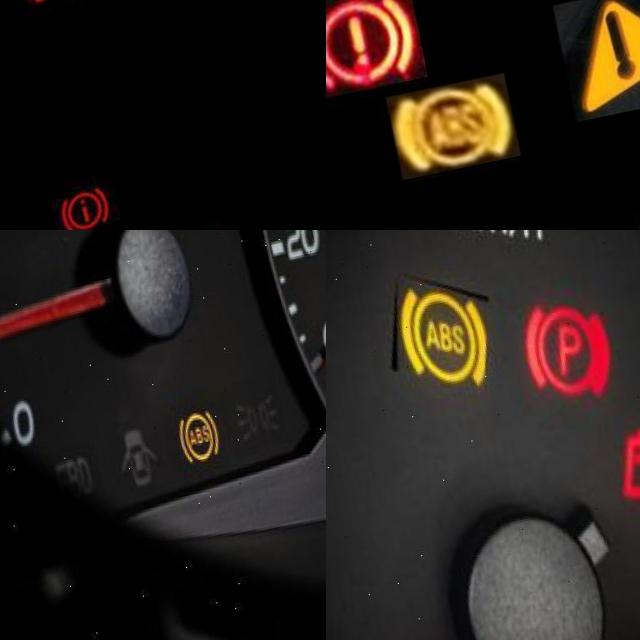Central Warning lamp: (545, 0, 640, 136)
